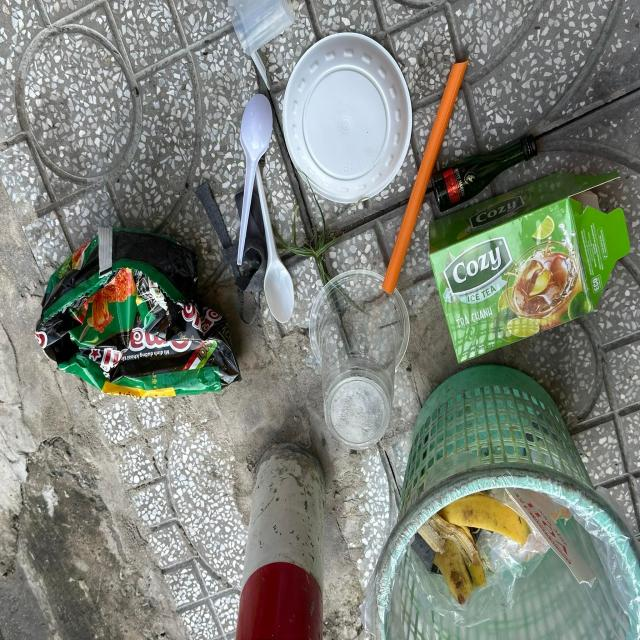bottle: (435, 133, 539, 212)
cardboard box: (430, 200, 630, 366)
drinking straw: (383, 60, 469, 296)
packet: (230, 0, 294, 56)
plastic glass: (310, 268, 410, 448)
plastic utensil: (283, 34, 413, 202), (256, 160, 294, 322), (238, 95, 273, 264)
snack package: (38, 226, 242, 398)
